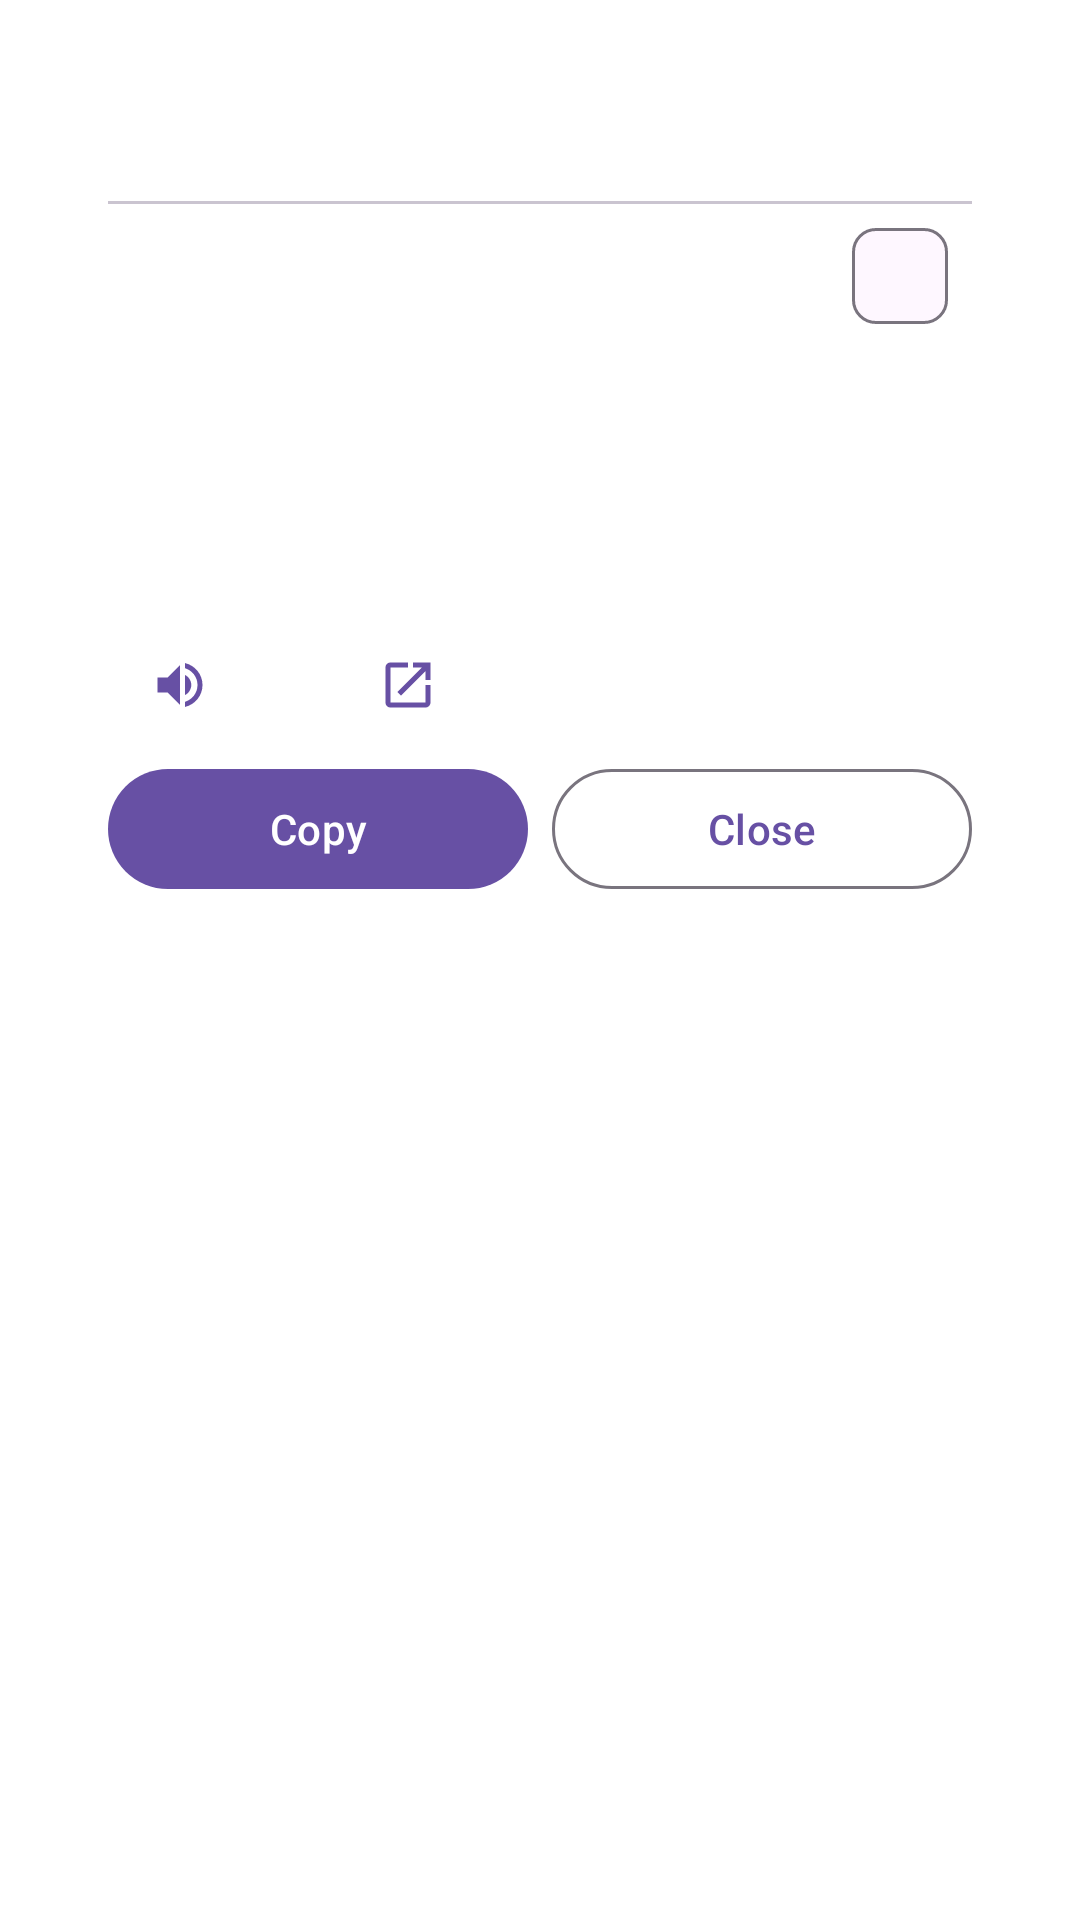

Icons on this 1080×1920 Android screen, each with the point to tap as (x=x, y=y):
Listen: (x=180, y=685)
Open in Translator: (x=408, y=685)
